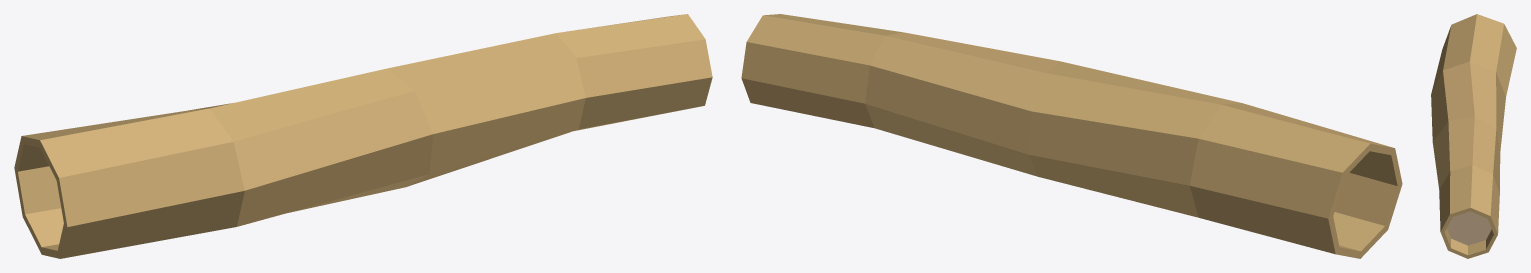
The model's file is Simple_Log_05_LOD.fbx.
3 renders of one model, left to right at view 1: azimuth 30°, elevation 25°; view 2: azimuth 150°, elevation 25°; view 3: azimuth 270°, elevation 25°, orthographic. The views are drawn at different scales.
Visible parts, largest first — view 1: Simple_Log_05_LOD0; view 2: Simple_Log_05_LOD0; view 3: Simple_Log_05_LOD0.
Part boxes in pixels (x1,y1,x2,y2): Simple_Log_05_LOD0: (14, 14, 712, 258); Simple_Log_05_LOD0: (741, 14, 1402, 258); Simple_Log_05_LOD0: (1431, 14, 1516, 258).
Size of what is drawn, in the model's own units: 222 by 40.31 by 44.73.
